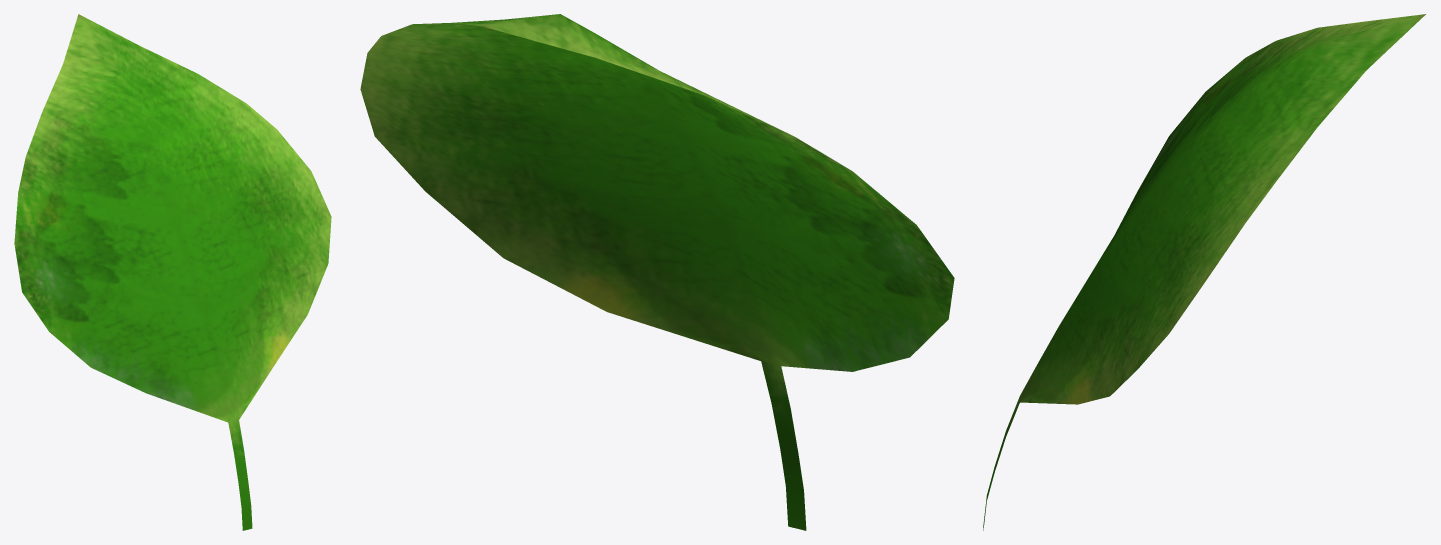
The model's file is leaf.glb.
3 renders of one model, left to right at view 1: azimuth 30°, elevation 25°; view 2: azimuth 150°, elevation 25°; view 3: azimuth 270°, elevation 25°, orthographic. The views are drawn at different scales.
Parts seen in each view (by area): view 1: Loft; view 2: Loft; view 3: Loft.
Boxes of the visible parts, <box> form: Loft: <box>14,14,331,530</box>; Loft: <box>360,14,954,530</box>; Loft: <box>983,14,1425,530</box>.
Size of the model in its own units: 231 by 280 by 218.
Materials: 1 (1 with a texture image).
